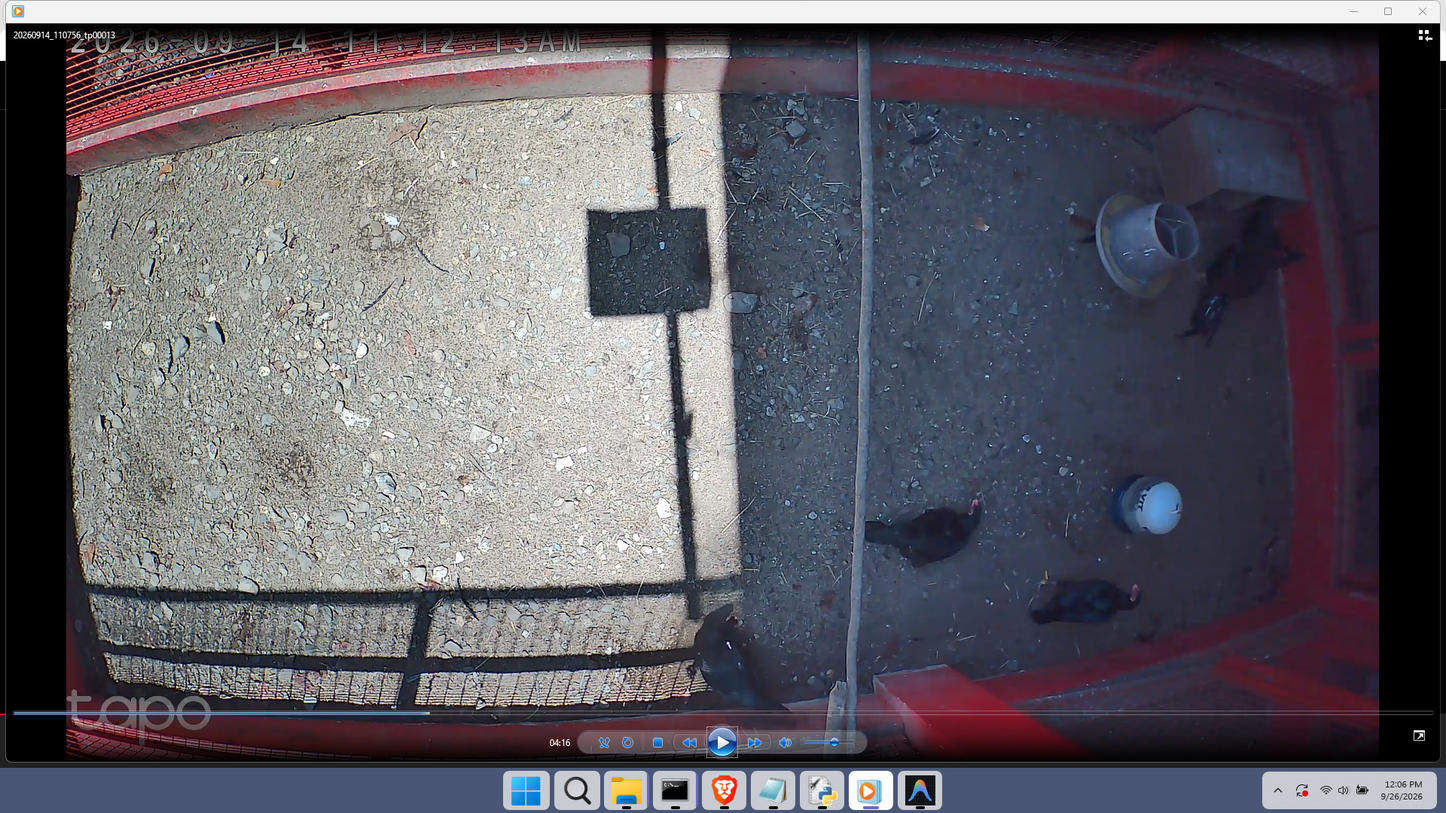Chicken: (693, 615, 796, 718), (863, 497, 988, 568), (1026, 570, 1150, 633), (1243, 202, 1307, 283)
Drinker: (1110, 472, 1189, 540)
Feeder: (1096, 189, 1200, 302)
Leg_Band_Yellow: (1042, 570, 1050, 585)
Rooster: (1172, 244, 1283, 341)
